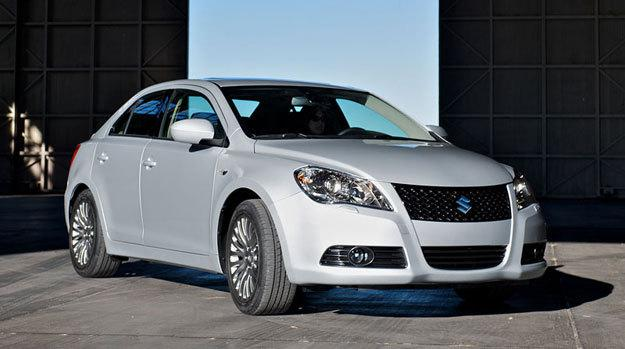Car: (49, 64, 578, 324)
